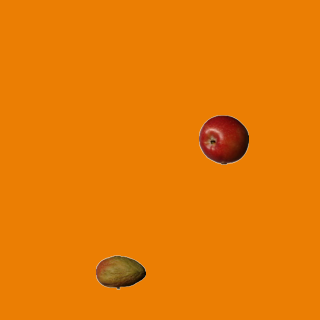Apple Braeburn: (198, 114, 248, 164)
Papaya: (95, 247, 145, 297)
